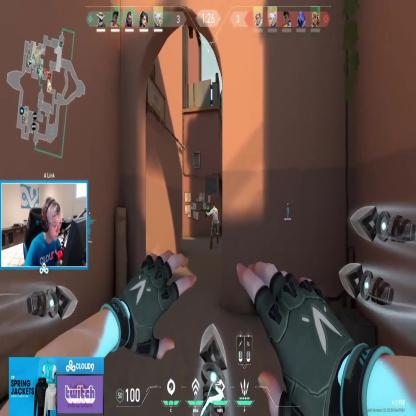enemy: (206, 201, 219, 248)
enemy_head: (211, 203, 214, 209)
